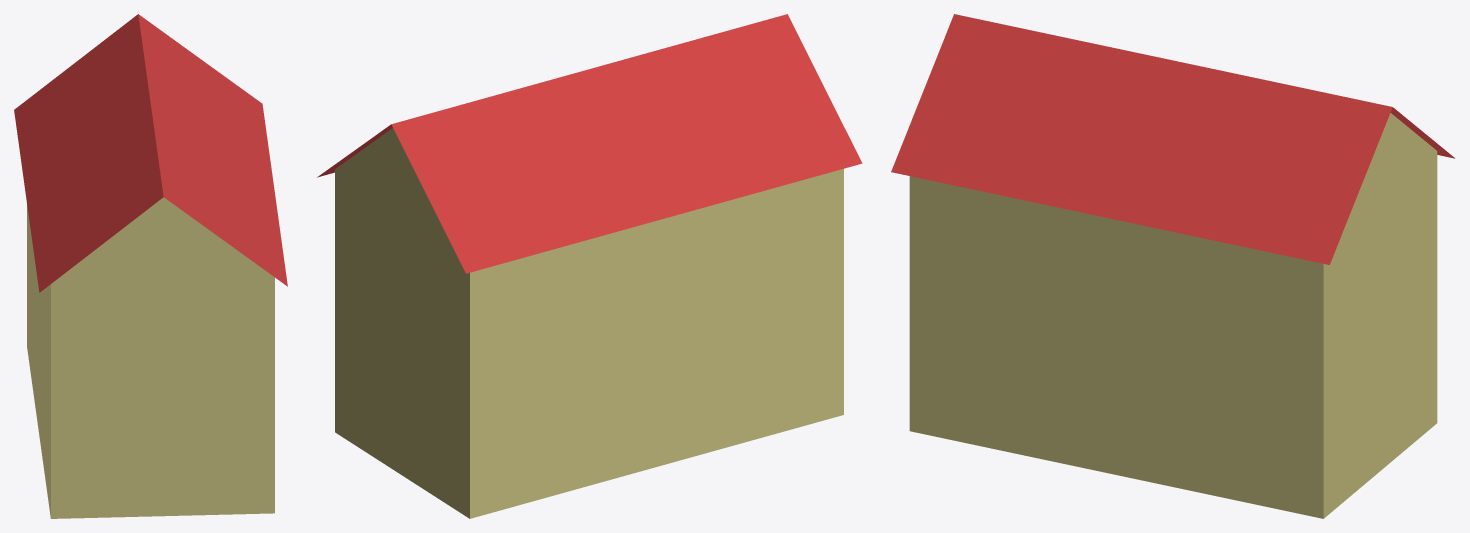
3 views of the same model, side by side, from view 1: azimuth 30°, elevation 25°; view 2: azimuth 150°, elevation 25°; view 3: azimuth 270°, elevation 25° (orthographic). The views are drawn at different scales.
Parts seen in each view (by area): view 1: group_5, group_3, group_4; view 2: group_5, group_3, group_4; view 3: group_5, group_3.
Part boxes in pixels (box(x1,y1,x2,y2)): group_5: box(27, 197, 274, 518); group_3: box(27, 14, 287, 286); group_4: box(14, 14, 190, 292); group_5: box(335, 128, 843, 518); group_3: box(370, 17, 843, 273); group_4: box(317, 14, 862, 273); group_5: box(909, 113, 1437, 518); group_3: box(891, 14, 1455, 264).
Size of the model in its own units: 25.65 by 30.72 by 21.99.
